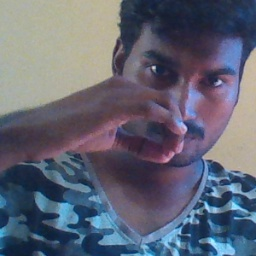O: (58, 69, 194, 178)
